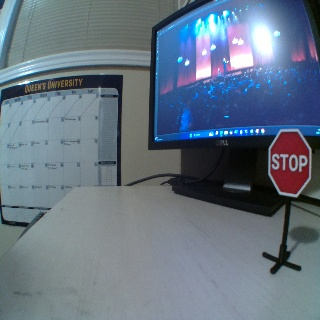sign_stop: (270, 129, 309, 195)
